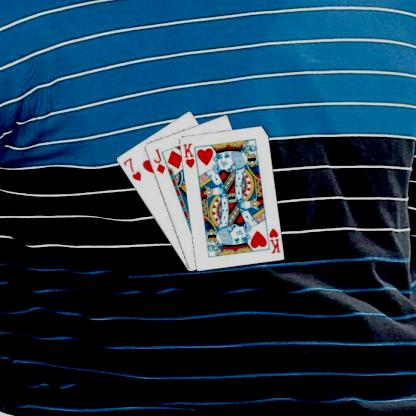7H: (120, 155, 142, 182)
JD: (150, 146, 166, 175)
KH: (180, 140, 196, 169), (266, 225, 281, 255)
